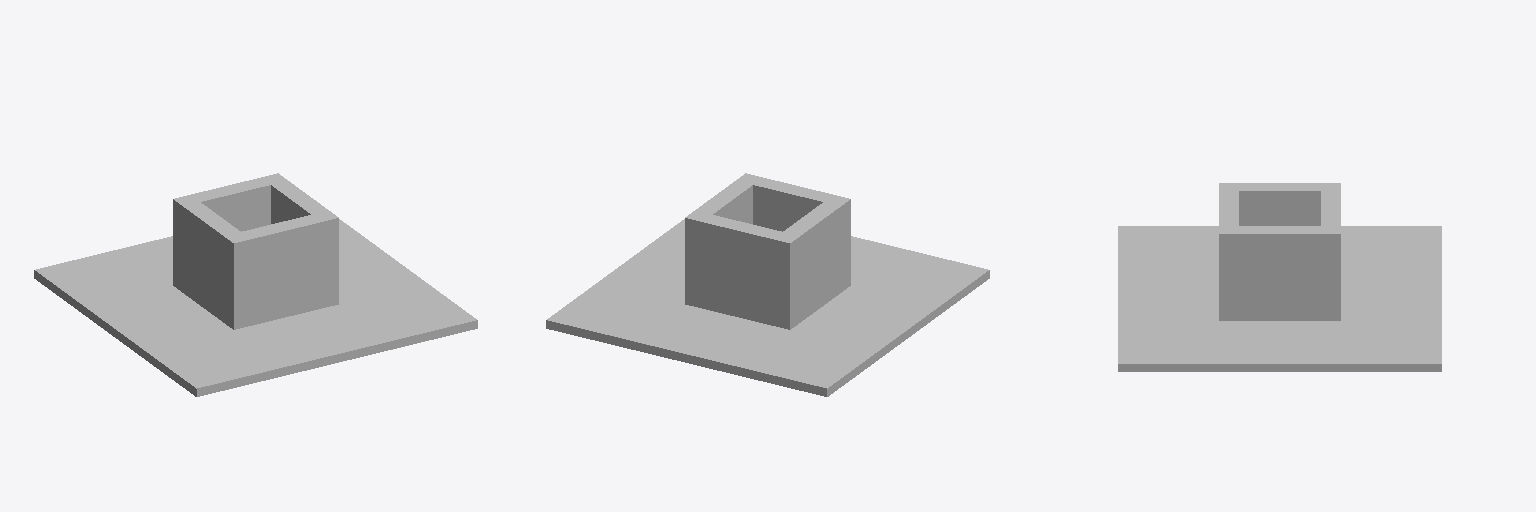
File: ladder_roof.obj
3 views of the same model, side by side, from view 1: azimuth 30°, elevation 25°; view 2: azimuth 150°, elevation 25°; view 3: azimuth 270°, elevation 25° (orthographic).
Parts seen in each view (by area): view 1: pCube31; view 2: pCube31; view 3: pCube31.
Part boxes in pixels (x1,y1,x2,y2): pCube31: (34, 173, 477, 396); pCube31: (546, 173, 989, 396); pCube31: (1118, 183, 1441, 371).
Bounding box in the file's own units: 34 × 11 × 34.